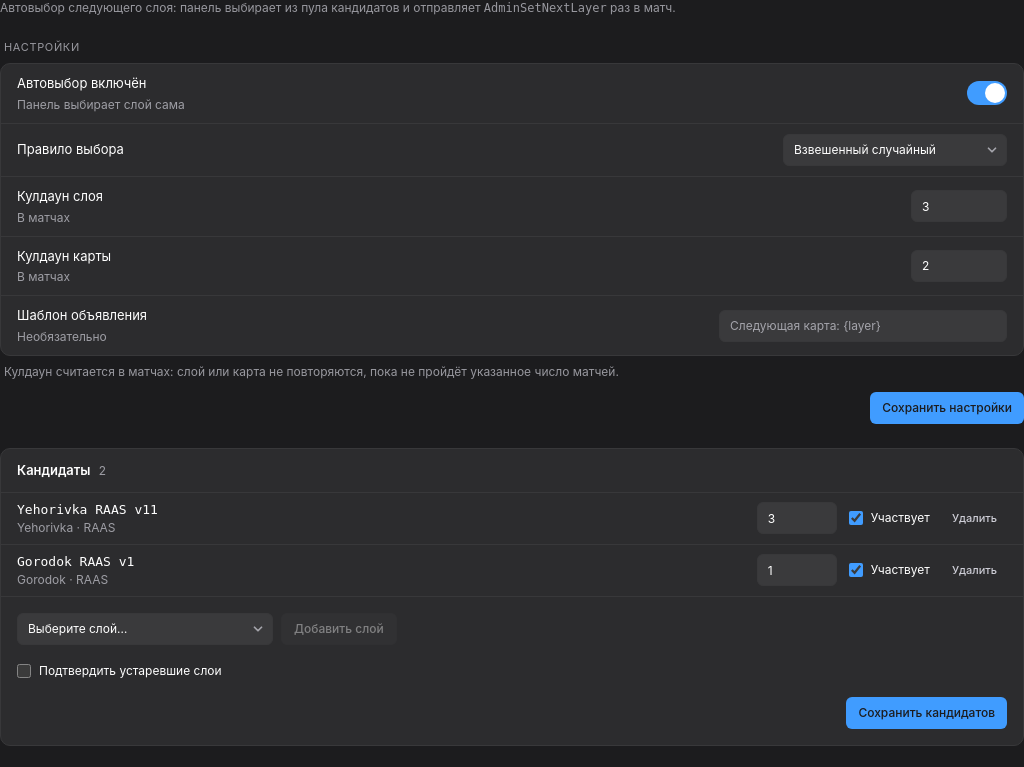
MapVotePage — независимые несохранённые правки (#624) › сохранение настроек не стирает несохранённую правку в пуле кандидатов
An unsaved edit in the candidates section below…
Replace the text in the number field named "Вес Yehorivka RAAS v11" with "9": (797, 518) top-left (757, 502), bottom-right (837, 534)
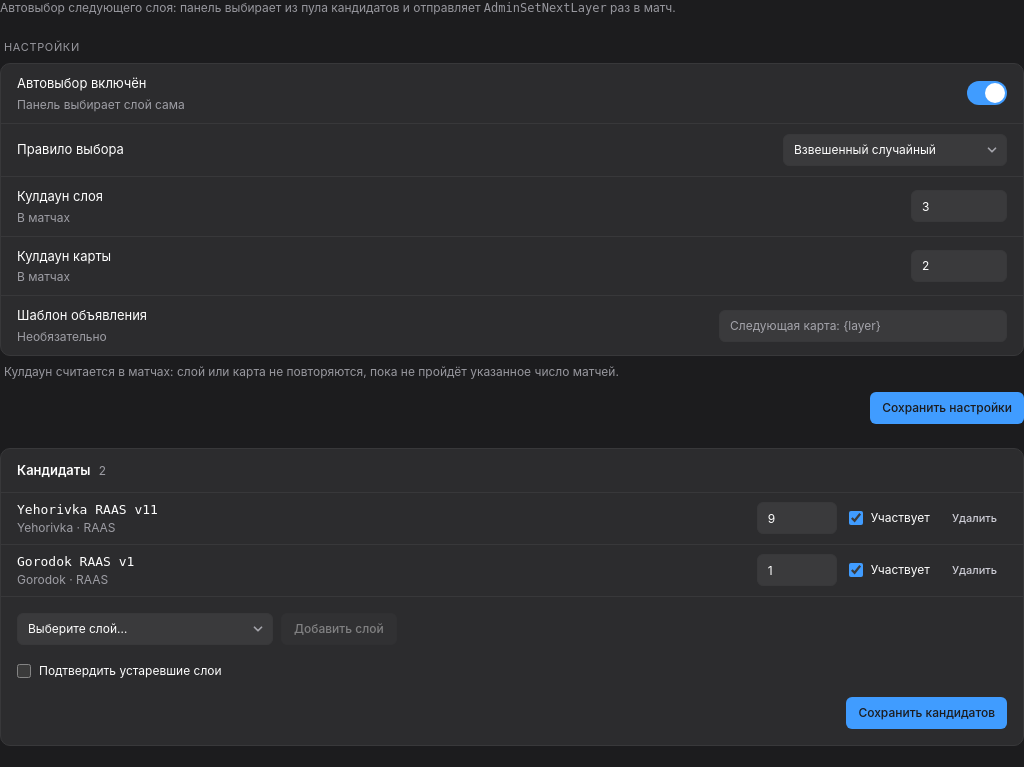
Click the button "Сохранить настройки": click(947, 408) top-left (870, 392), bottom-right (1023, 424)
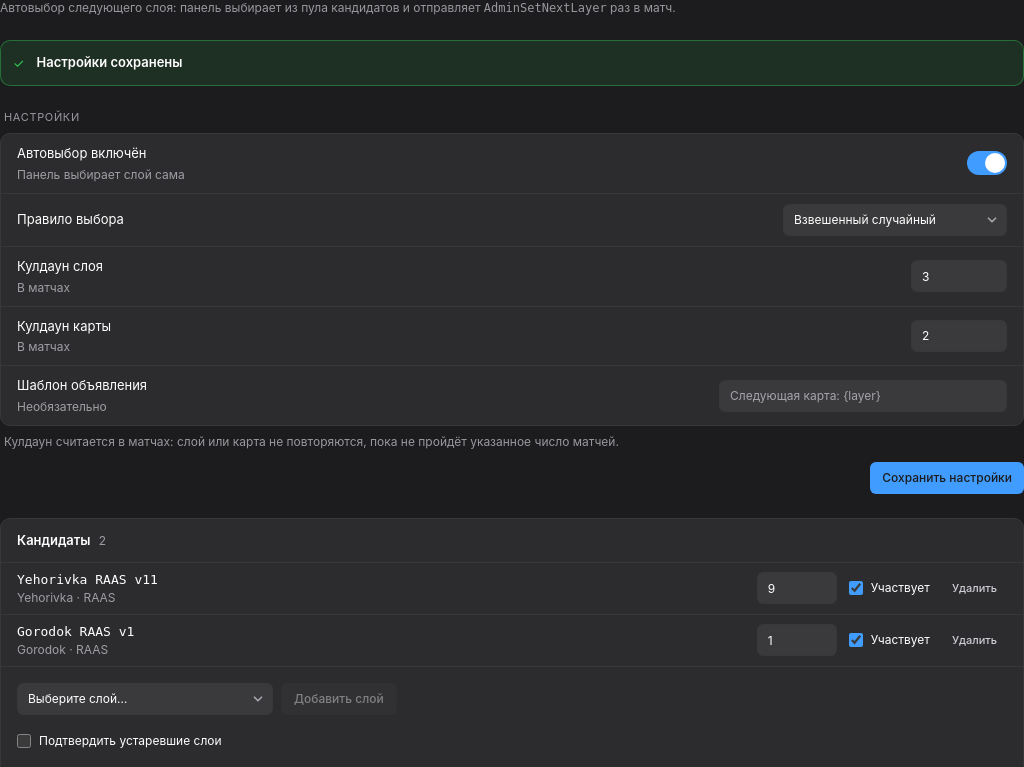
Result: the text "Настройки сохранены" is shown at top-left (36, 54), bottom-right (182, 70)
